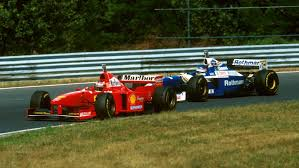FormulaOneCar: (25, 64, 178, 128), (158, 47, 284, 107)
